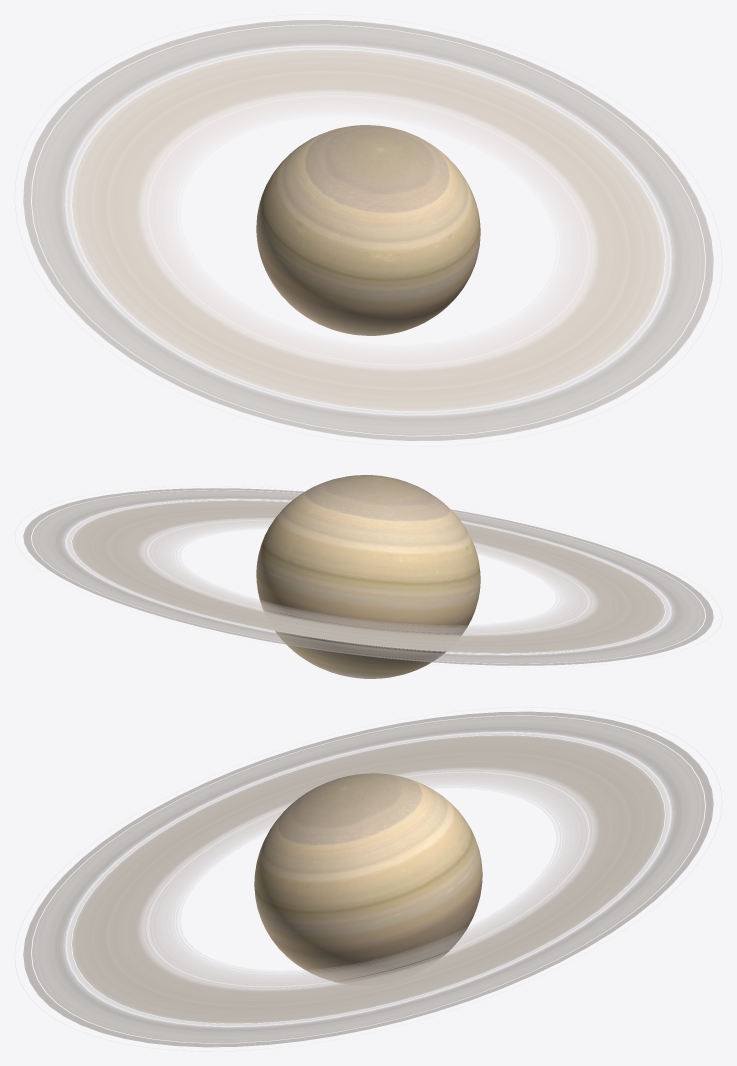
The model's file is saturn.glb.
3 renders of one model, top to bottom at view 1: azimuth 30°, elevation 25°; view 2: azimuth 150°, elevation 25°; view 3: azimuth 270°, elevation 25°, orthographic. The views are drawn at different scales.
Parts seen in each view (by area): view 1: RingsTop_7, Saturn.001_6; view 2: RingsTop_7, Saturn.001_6; view 3: RingsTop_7, Saturn.001_6.
Part boxes in pixels (bbox=[...]): RingsTop_7: bbox=[23, 20, 713, 440]; Saturn.001_6: bbox=[256, 125, 480, 335]; RingsTop_7: bbox=[23, 488, 713, 665]; Saturn.001_6: bbox=[256, 475, 480, 678]; RingsTop_7: bbox=[23, 711, 713, 1047]; Saturn.001_6: bbox=[254, 773, 482, 983].
Bounding box in the file's own units: 164 × 46.9 × 160.
2 materials, 2 textured.
